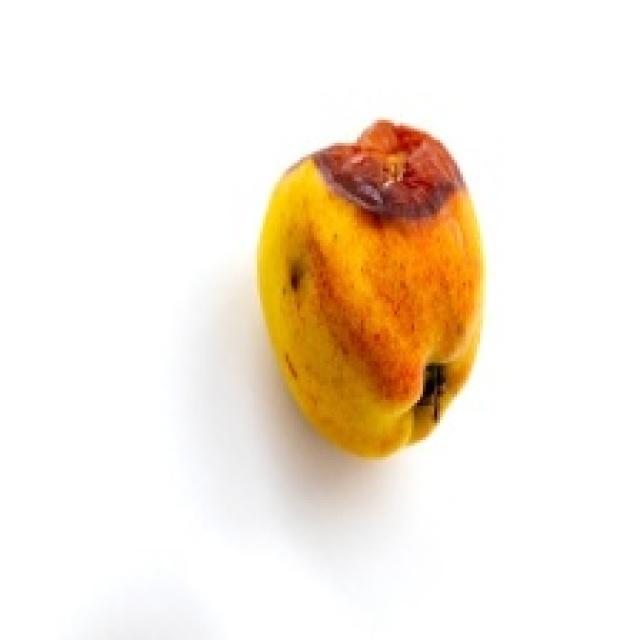rotten_apple: (264, 125, 480, 457)
